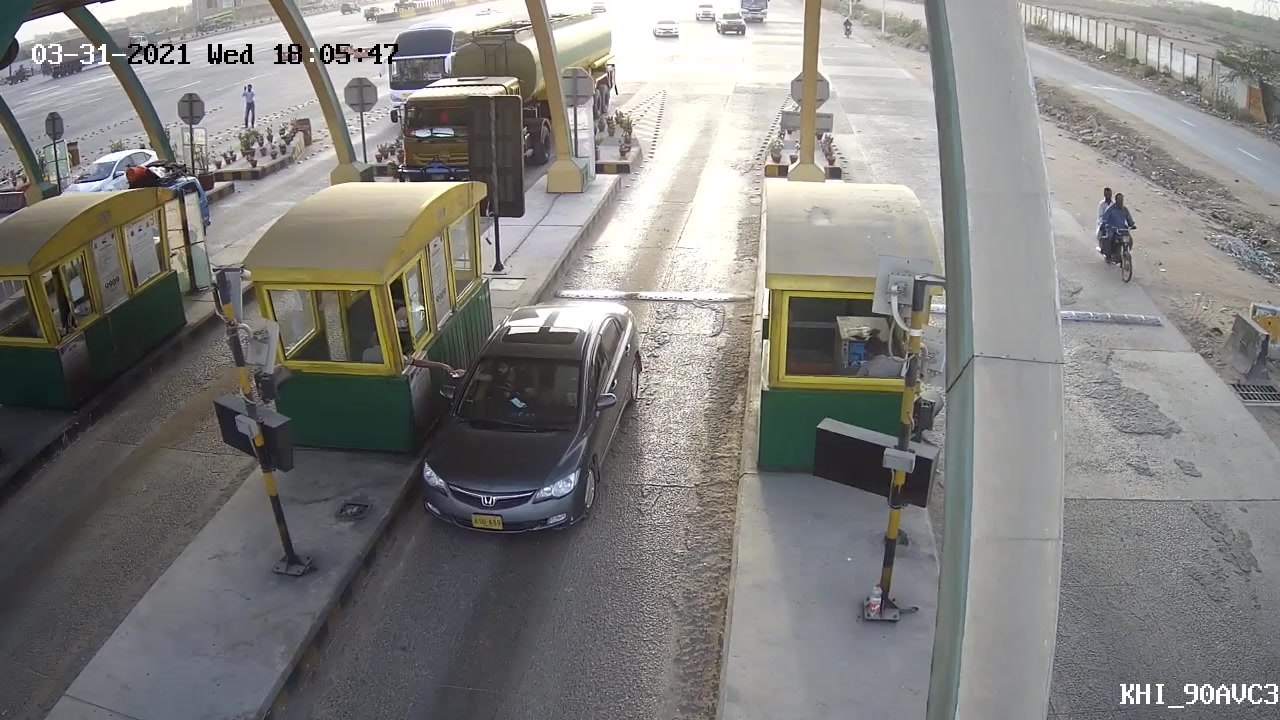F1: (410, 297, 640, 539)
